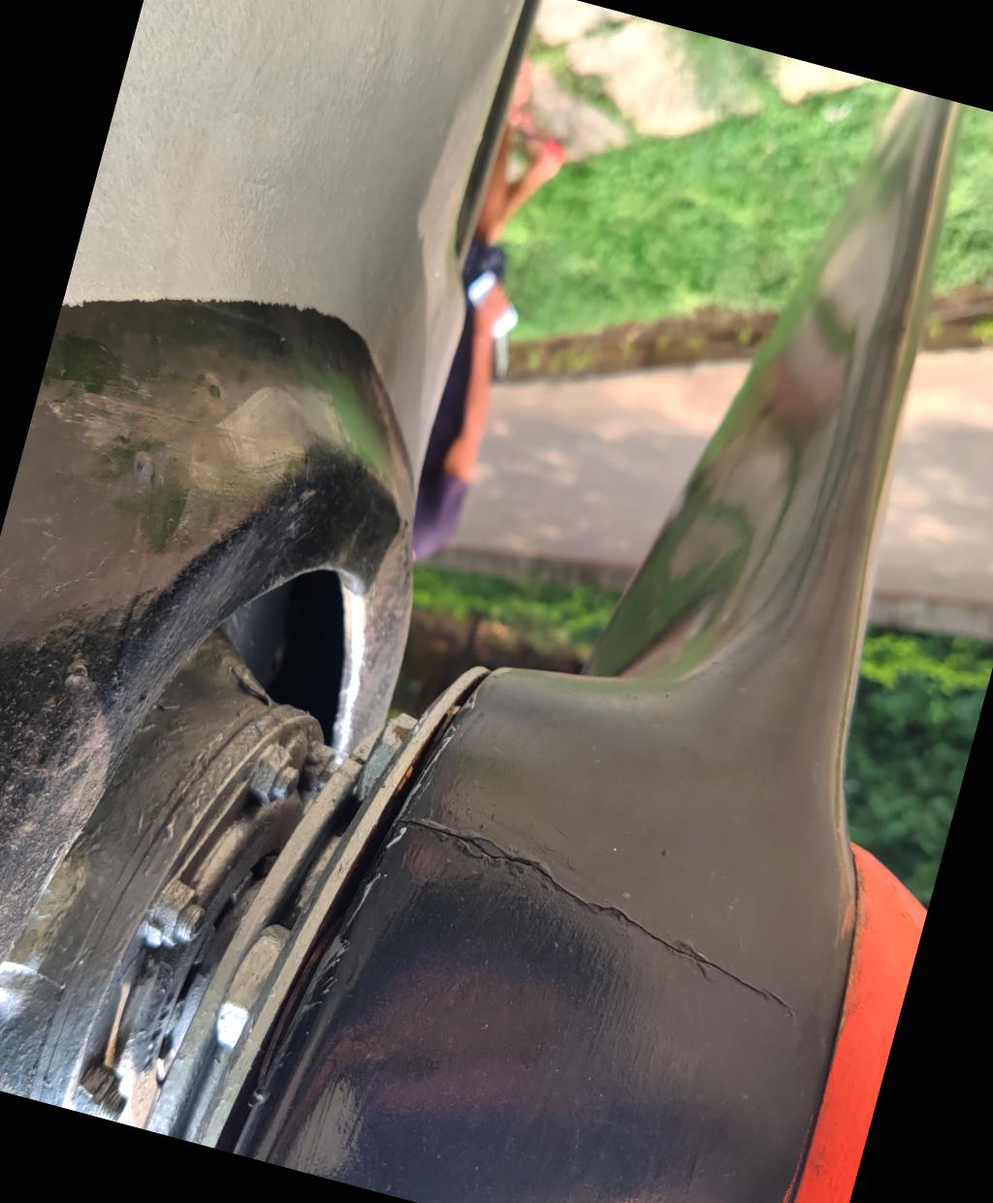crack: (356, 736, 848, 1065)
